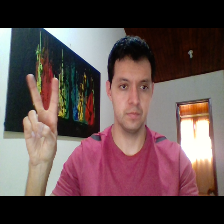KP: (16, 72, 69, 172)
